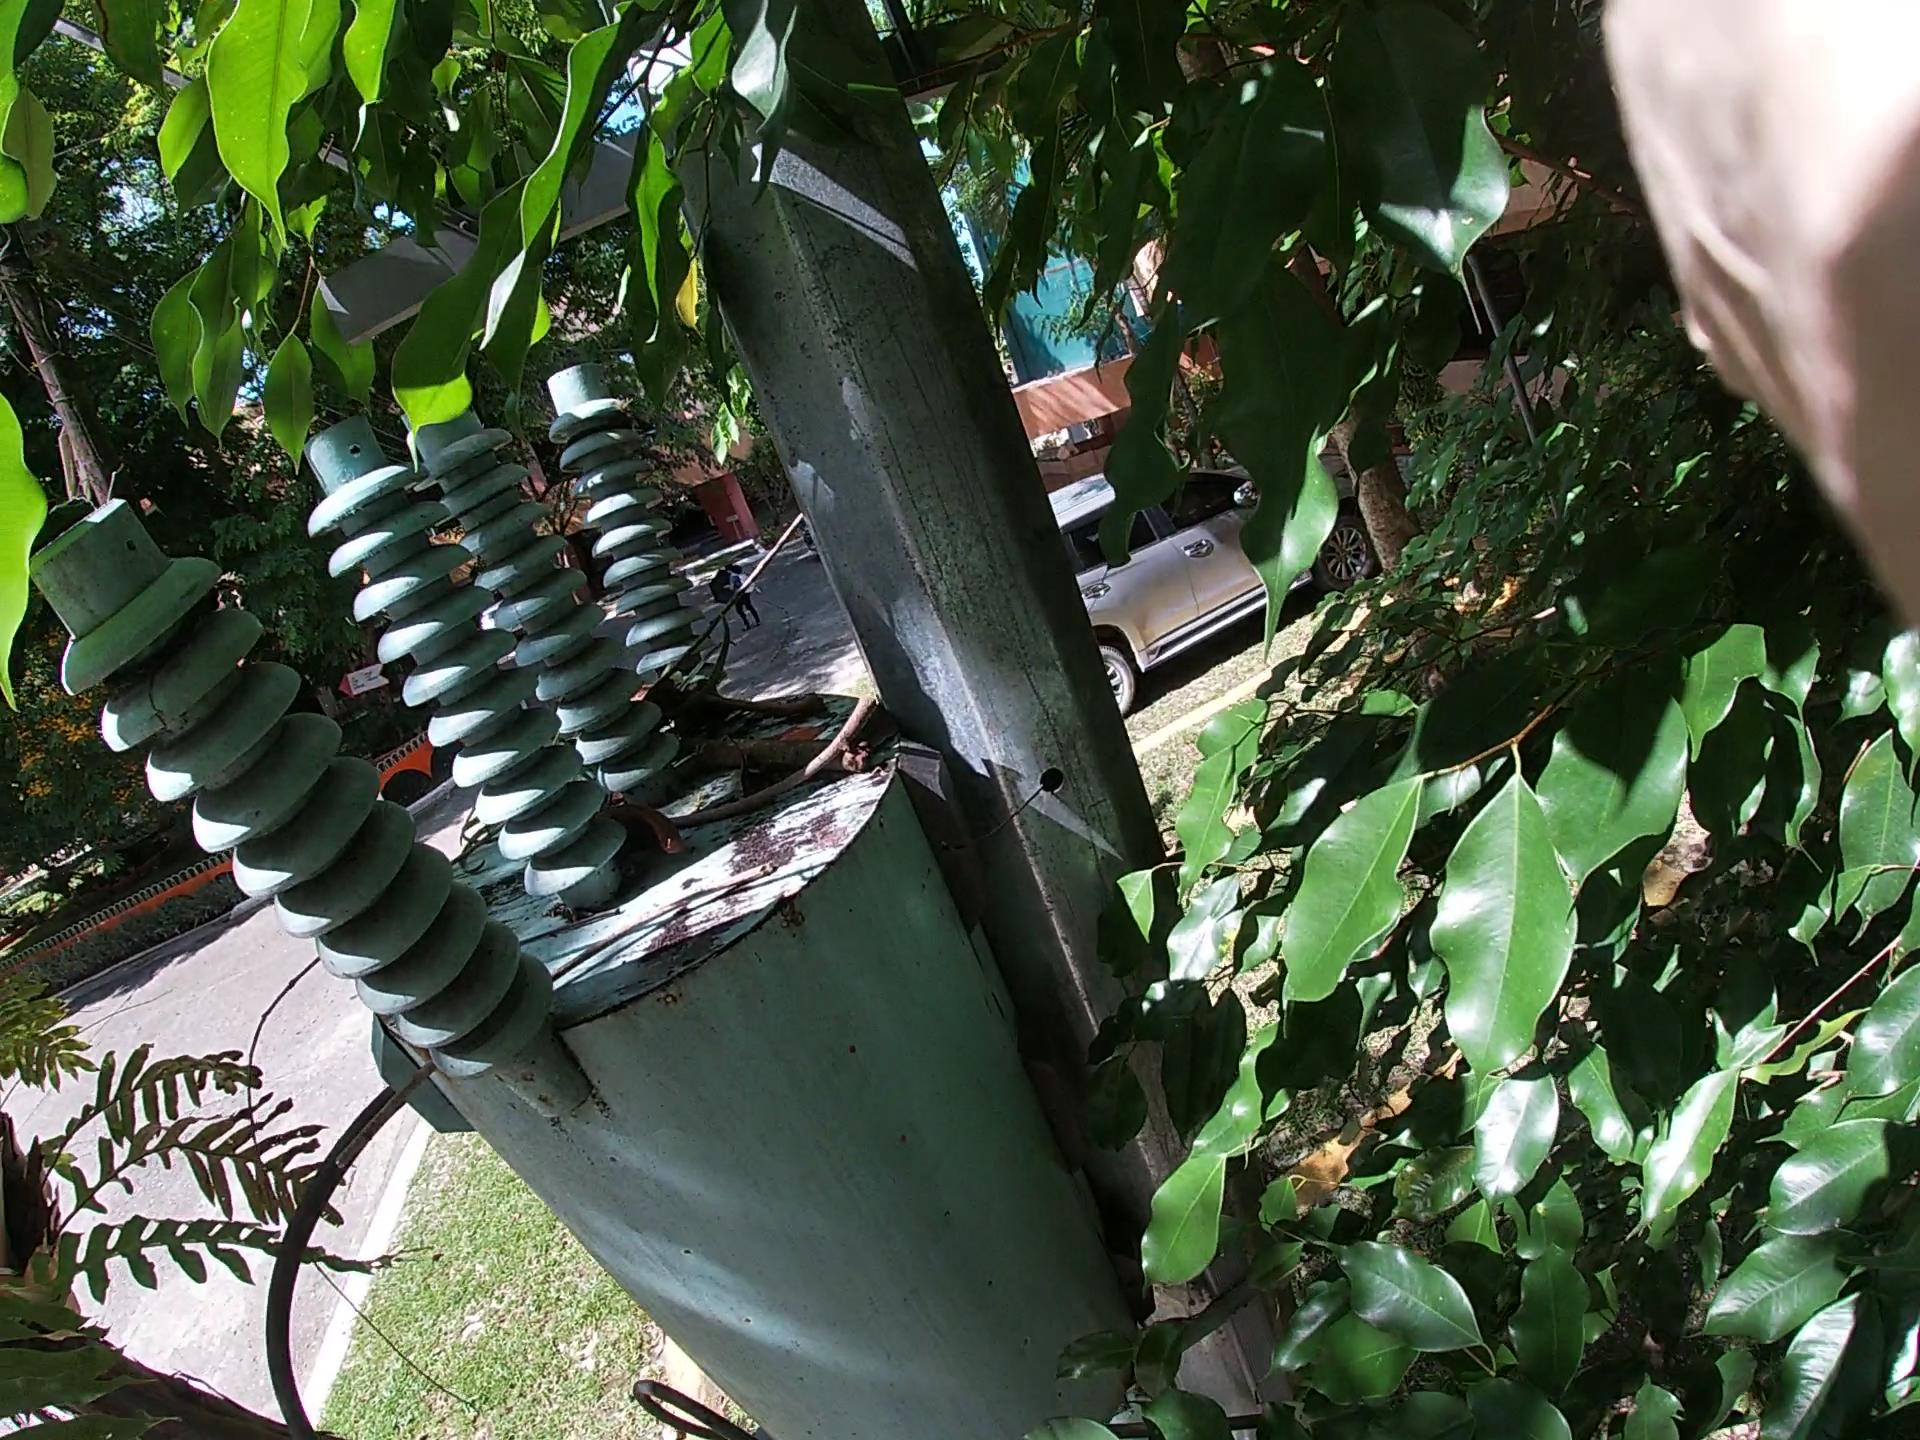branch with leaves: (584, 510, 872, 759)
leaf: (779, 673, 835, 762)
mahogany fruit: (547, 750, 750, 936)
tree branch: (192, 756, 584, 1203), (310, 926, 788, 1166), (689, 706, 1023, 882)
